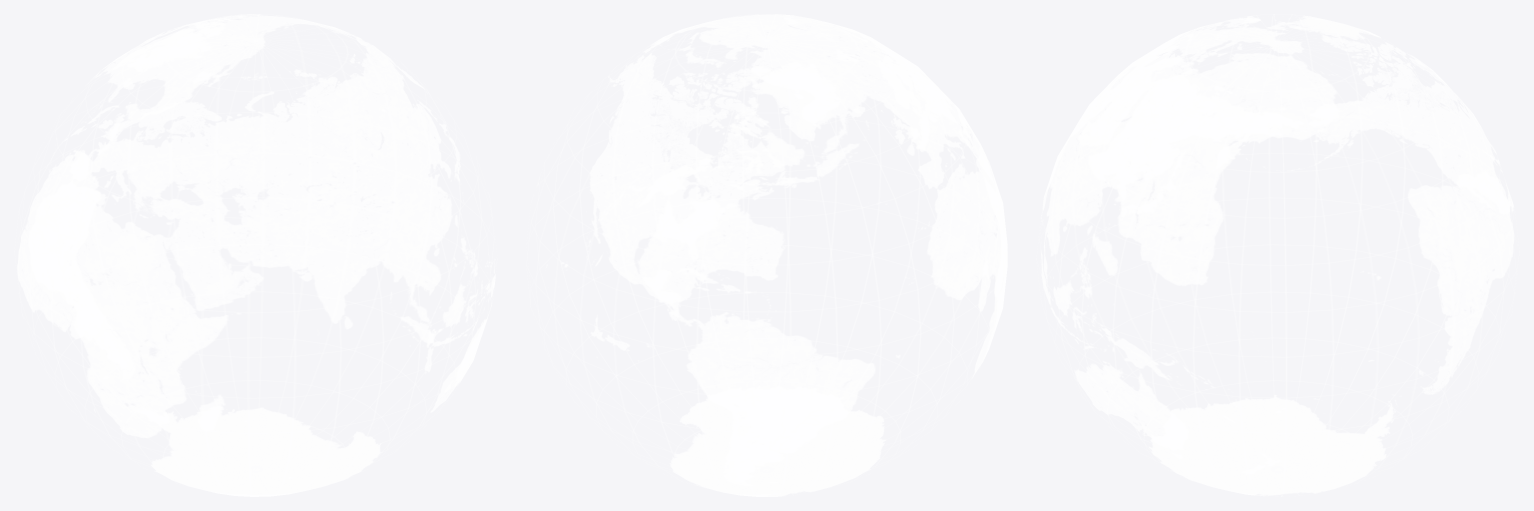
The model's file is globe.glb.
3 renders of one model, left to right at view 1: azimuth 30°, elevation 25°; view 2: azimuth 150°, elevation 25°; view 3: azimuth 270°, elevation 25°, orthographic.
Parts seen in each view (by area): view 1: Hologram_Hologram_0; view 2: Hologram_Hologram_0; view 3: Hologram_Hologram_0.
Part boxes in pixels (x1,y1,x2,y2): Hologram_Hologram_0: (14, 14, 497, 496); Hologram_Hologram_0: (526, 14, 1007, 496); Hologram_Hologram_0: (1036, 14, 1519, 496).
Bounding box in the file's own units: 4 × 3.92 × 4.
1 material, 1 textured.
